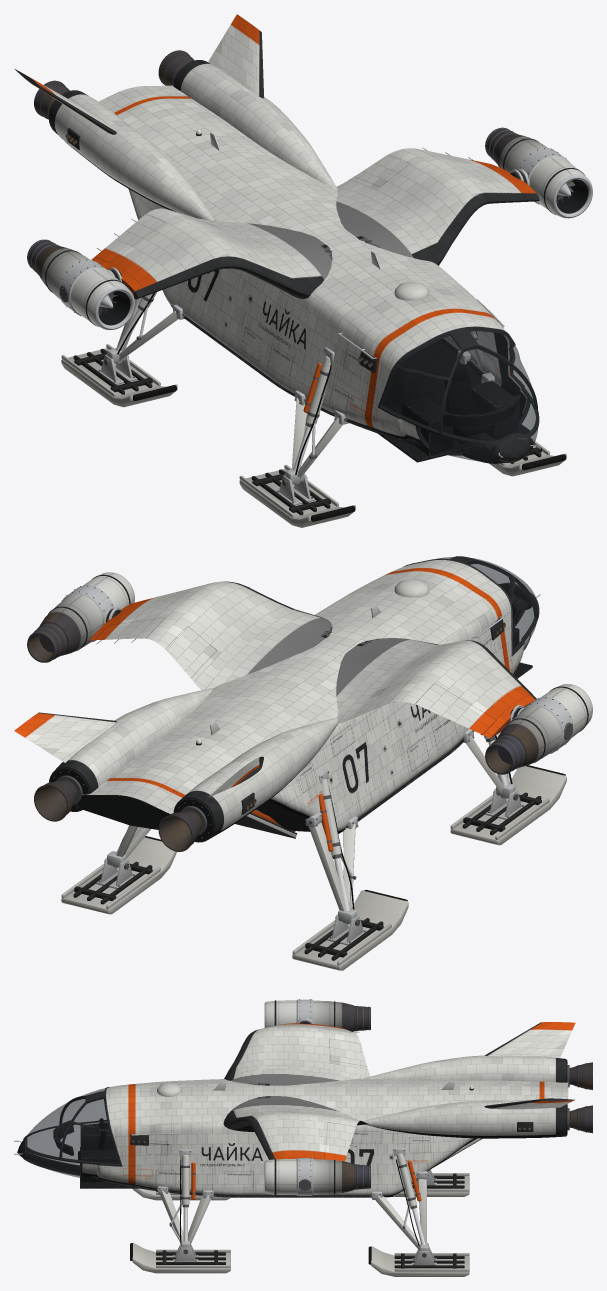
Rendered from chaika_ext.fbx.
The picture shows the model from 3 angles, top to bottom: view 1: azimuth 30°, elevation 25°; view 2: azimuth 150°, elevation 25°; view 3: azimuth 270°, elevation 25°; orthographic projection. The views are drawn at different scales.
Visible parts, largest first — view 1: ext_hull, ext_wing_L, ext_canopy_glass, ext_wing_R, ext_pod_R, ext_cockpit_proxy, ext_gear_front_R, ext_pod_L, ext_gear_rear_R, ext_canopy_frame, ext_nacelle_R, ext_nacelle_L (+7 smaller); view 2: ext_hull, ext_wing_L, ext_wing_R, ext_gear_rear_R, ext_pod_R, ext_gear_front_R, ext_pod_L, ext_gear_rear_L, ext_nacelle_R, ext_nacelle_L, ext_fin_L, ext_tail_base (+13 smaller); view 3: ext_hull, ext_wing_R, ext_wing_L, ext_pod_L, ext_canopy_glass, ext_gear_rear_L, ext_gear_front_L, ext_pod_R, ext_nacelle_L, ext_cockpit_proxy, ext_fin_R, ext_nacelle_R (+11 smaller).
Boxes of the visible parts, x1,y1,x2,y2 form: ext_hull: [99, 85, 531, 462]; ext_wing_L: [336, 148, 539, 265]; ext_canopy_glass: [381, 329, 538, 462]; ext_wing_R: [91, 208, 332, 299]; ext_pod_R: [49, 90, 213, 220]; ext_cockpit_proxy: [378, 332, 529, 462]; ext_gear_front_R: [239, 347, 355, 527]; ext_pod_L: [173, 60, 337, 190]; ext_gear_rear_R: [61, 292, 184, 407]; ext_canopy_frame: [377, 326, 539, 463]; ext_nacelle_R: [36, 246, 134, 330]; ext_nacelle_L: [494, 134, 592, 218]; ext_hull: [82, 560, 529, 831]; ext_wing_L: [89, 581, 332, 690]; ext_wing_R: [336, 638, 536, 738]; ext_gear_rear_R: [292, 769, 408, 970]; ext_pod_R: [173, 718, 337, 842]; ext_gear_front_R: [450, 729, 566, 845]; ext_pod_L: [49, 688, 213, 811]; ext_gear_rear_L: [61, 825, 176, 914]; ext_nacelle_R: [497, 684, 592, 767]; ext_nacelle_L: [39, 572, 134, 655]; ext_fin_L: [14, 712, 116, 762]; ext_tail_base: [75, 794, 170, 829]; ext_hull: [17, 1078, 568, 1195]; ext_wing_R: [224, 1023, 370, 1085]; ext_wing_L: [223, 1096, 369, 1161]; ext_pod_L: [363, 1100, 566, 1138]; ext_canopy_glass: [25, 1088, 119, 1177]; ext_gear_rear_L: [368, 1148, 469, 1276]; ext_gear_front_L: [130, 1149, 230, 1273]; ext_pod_R: [364, 1055, 566, 1082]; ext_nacelle_L: [264, 1159, 354, 1194]; ext_cockpit_proxy: [27, 1118, 138, 1188]; ext_fin_R: [484, 1022, 575, 1058]; ext_nacelle_R: [264, 1000, 354, 1031].
Bounding box in the file's own units: 10.08 × 4.53 × 14.08.
Materials: 6 (4 with a texture image).
